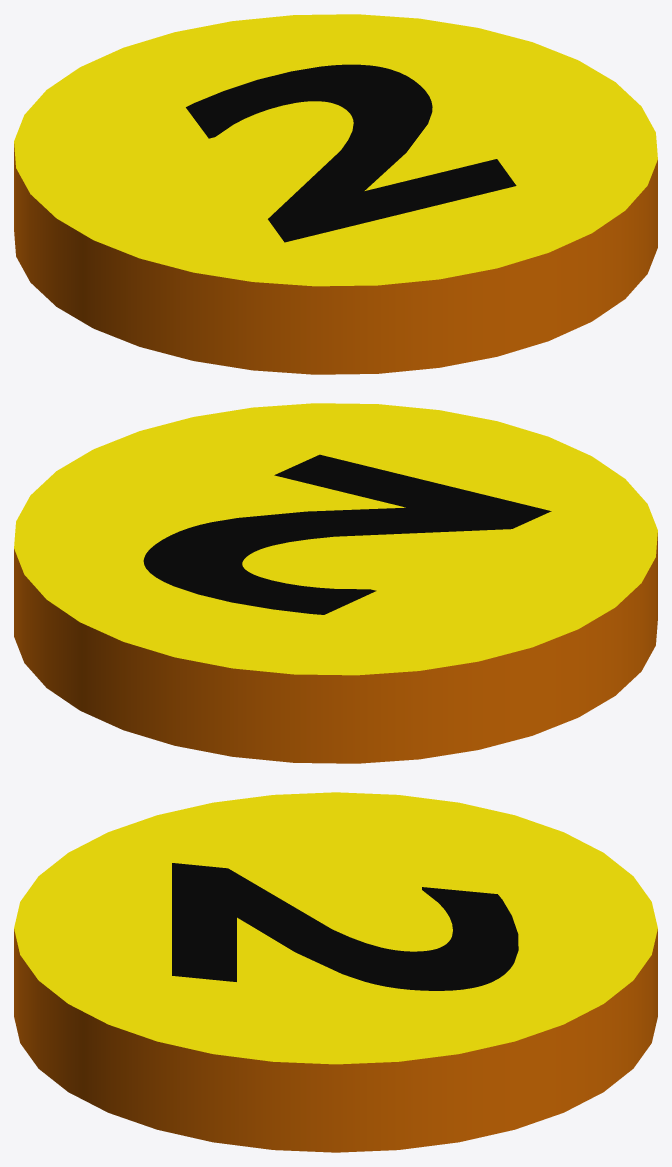
The model's file is two.fbx.
3 renders of one model, top to bottom at view 1: azimuth 30°, elevation 25°; view 2: azimuth 150°, elevation 25°; view 3: azimuth 270°, elevation 25°, orthographic.
Visible parts, largest first — view 1: ทรงกระบอก.001, ช้อความ.001; view 2: ทรงกระบอก.001, ช้อความ.001; view 3: ทรงกระบอก.001, ช้อความ.001.
Part boxes in pixels (box(x1,y1,x2,y2)): ทรงกระบอก.001: box(14, 14, 657, 374); ช้อความ.001: box(186, 64, 516, 242); ทรงกระบอก.001: box(14, 403, 657, 763); ช้อความ.001: box(143, 454, 551, 614); ทรงกระบอก.001: box(14, 792, 657, 1152); ช้อความ.001: box(172, 863, 518, 990).
Size of the model in its own units: 200 by 30.4 by 200.
